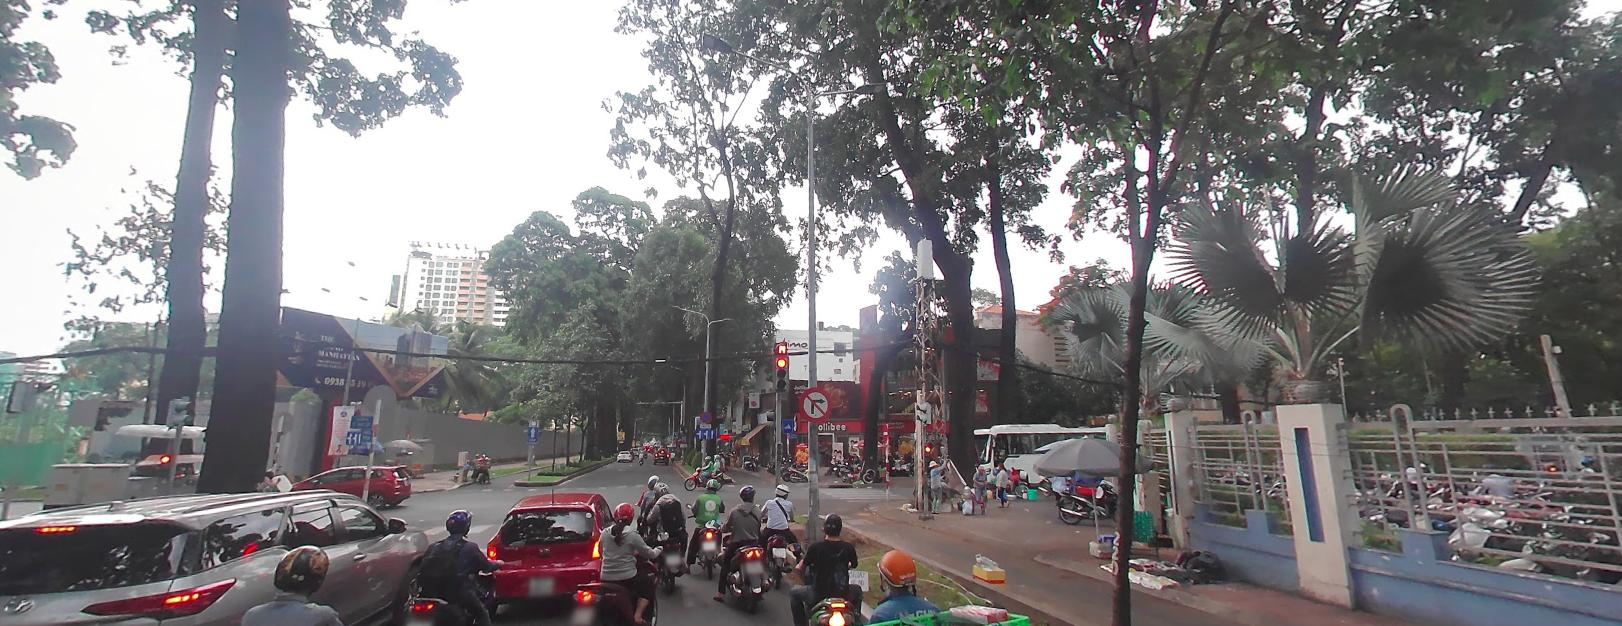Cam dung va do: (700, 410, 712, 421)
Cam re: (799, 386, 831, 419)
